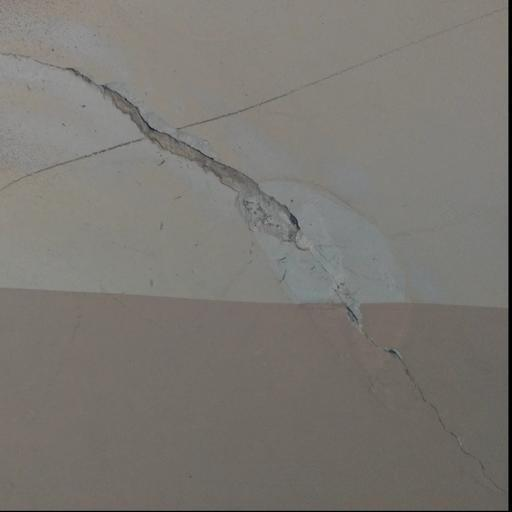major_crack: (0, 27, 501, 502)
